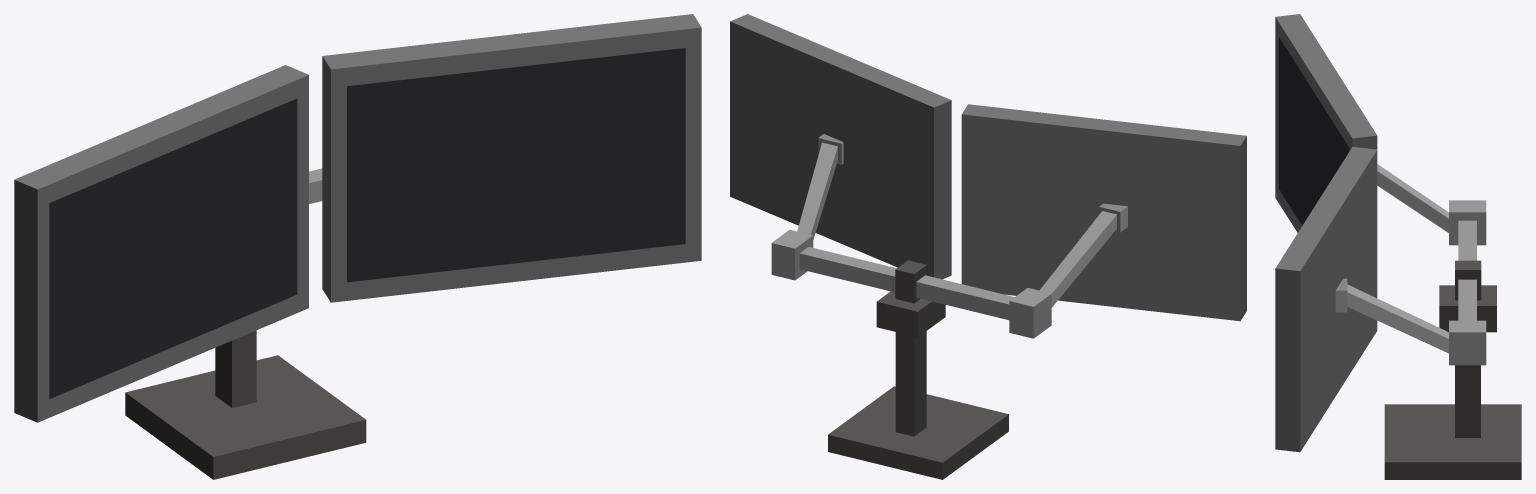
File: SO_Monitor_02.fbx
3 views of the same model, side by side, from view 1: azimuth 30°, elevation 25°; view 2: azimuth 150°, elevation 25°; view 3: azimuth 270°, elevation 25° (orthographic). The views are drawn at different scales.
Visible parts, largest first — view 1: SO_Monitor_02; view 2: SO_Monitor_02; view 3: SO_Monitor_02.
Part boxes in pixels (x1,y1,x2,y2): SO_Monitor_02: [14, 14, 701, 479]; SO_Monitor_02: [730, 14, 1246, 479]; SO_Monitor_02: [1275, 14, 1521, 479].
Size of the model in its own units: 3.01 by 1.7 by 1.22.
